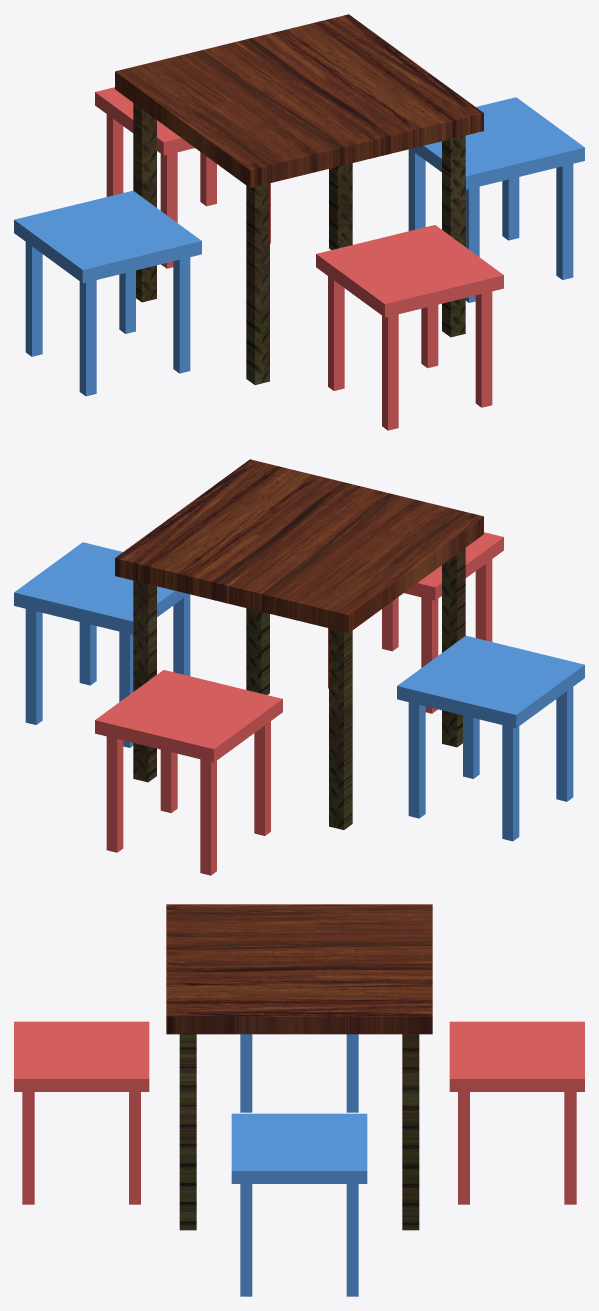
File: Props_Street_Chairs.fbx
The picture shows the model from 3 angles, top to bottom: view 1: azimuth 30°, elevation 25°; view 2: azimuth 150°, elevation 25°; view 3: azimuth 270°, elevation 25°; orthographic projection.
Visible parts, largest first — view 1: Prop_Table_Low, Prop_Chair_Blue_2, Prop_Chair_Red_2, Prop_Chair_Blue_1, Prop_Table_Legs, Prop_Chair_Red_1; view 2: Prop_Table_Low, Prop_Chair_Blue_2, Prop_Chair_Red_1, Prop_Chair_Blue_1, Prop_Table_Legs, Prop_Chair_Red_2; view 3: Prop_Table_Low, Prop_Chair_Blue_1, Prop_Chair_Red_1, Prop_Chair_Red_2, Prop_Table_Legs, Prop_Chair_Blue_2.
Part boxes in pixels (bbox=[...]): Prop_Table_Low: bbox=[115, 14, 483, 187]; Prop_Chair_Blue_2: bbox=[14, 190, 201, 396]; Prop_Chair_Red_2: bbox=[316, 225, 503, 430]; Prop_Chair_Blue_1: bbox=[408, 97, 584, 302]; Prop_Table_Legs: bbox=[133, 103, 465, 384]; Prop_Chair_Red_1: bbox=[95, 87, 270, 268]; Prop_Table_Low: bbox=[115, 459, 483, 632]; Prop_Chair_Blue_2: bbox=[397, 635, 584, 841]; Prop_Chair_Red_1: bbox=[95, 670, 282, 875]; Prop_Chair_Blue_1: bbox=[14, 542, 190, 747]; Prop_Table_Legs: bbox=[133, 548, 465, 829]; Prop_Chair_Red_2: bbox=[328, 532, 503, 713]; Prop_Table_Low: bbox=[166, 904, 432, 1034]; Prop_Chair_Blue_1: bbox=[231, 1113, 367, 1296]; Prop_Chair_Red_1: bbox=[449, 1021, 584, 1204]; Prop_Chair_Red_2: bbox=[14, 1021, 149, 1204]; Prop_Table_Legs: bbox=[179, 1034, 419, 1230]; Prop_Chair_Blue_2: bbox=[240, 1034, 358, 1112].
Bounding box in the file's own units: 1.18 × 0.5 × 1.18.
